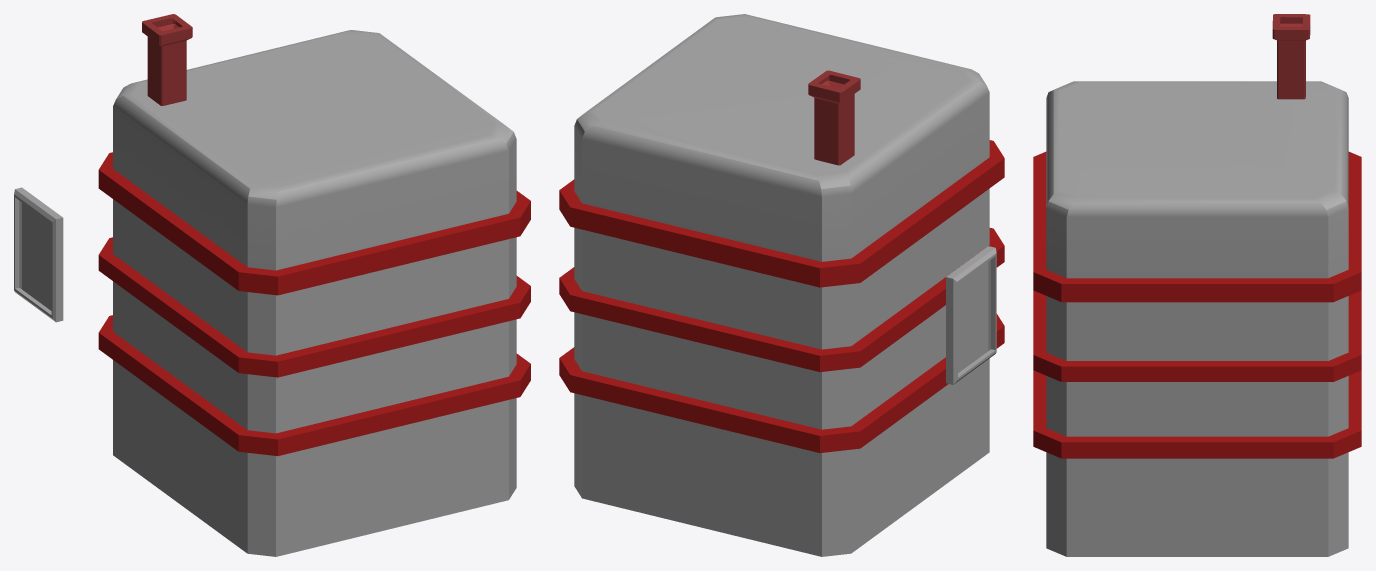
The model's file is BuildingWChimney.fbx.
The picture shows the model from 3 angles, left to right: view 1: azimuth 30°, elevation 25°; view 2: azimuth 150°, elevation 25°; view 3: azimuth 270°, elevation 25°; orthographic projection. The views are drawn at different scales.
Parts seen in each view (by area): view 1: pCube1, pCube2, pCube3; view 2: pCube1, pCube2, pCube3; view 3: pCube1, pCube3.
Part boxes in pixels (box(x1,y1,x2,y2)): pCube1: box(98, 30, 530, 556); pCube2: box(14, 187, 63, 322); pCube3: box(142, 14, 192, 105); pCube1: box(559, 14, 1004, 556); pCube2: box(946, 246, 996, 384); pCube3: box(808, 70, 860, 165); pCube1: box(1033, 81, 1361, 556); pCube3: box(1272, 14, 1310, 99).
Bounding box in the file's own units: 11.05 × 12.06 × 8.47.
